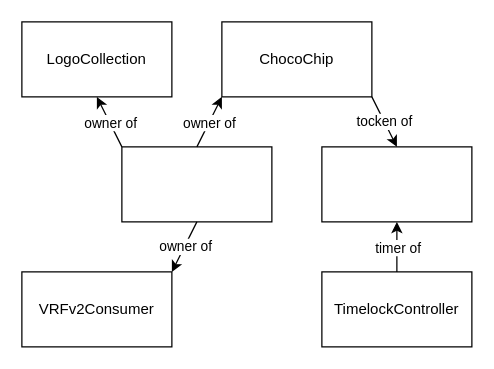
Some shapes in this 494 by 369 pixel diagram are drawn without their labels. Each missing label, with the centre of its shape:
"MeltyFiDAO" belongs at [396,184].
"MeltyFiNFT" belongs at [196,184].
